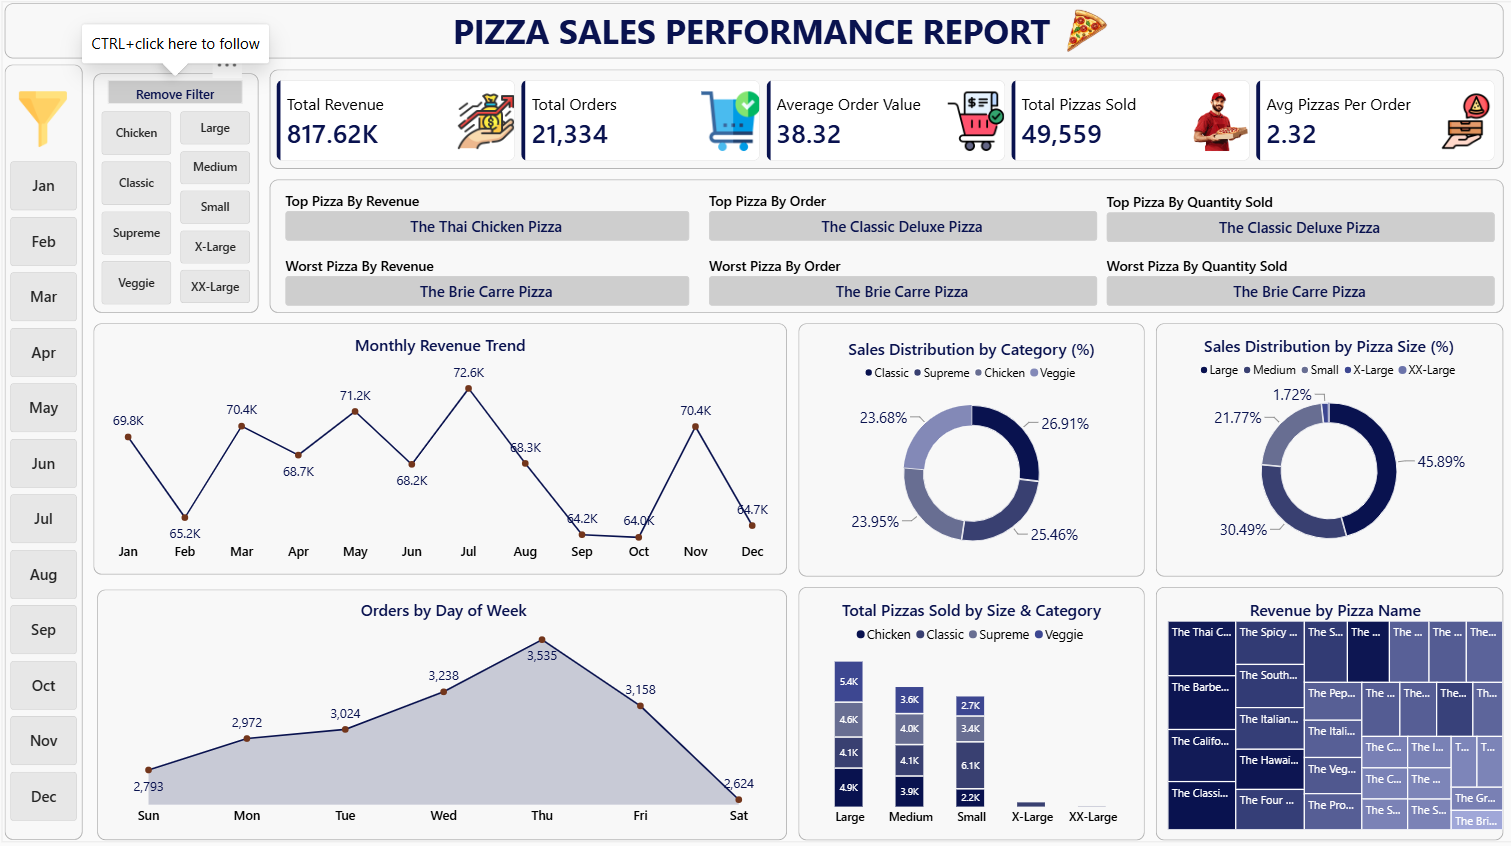

What the dashboard file says about the page in this screenshot:
{"tool":"powerbi","page":{"name":"DASHBOARD","canvas":[1920,1080],"ordinal":0},"visuals":[{"type":"shape","box":[12.9,10,1892.9,71.4],"z":0,"group":"g1"},{"type":"group","id":"g1","title":"Group 1","box":[12.9,10,1892.9,1058.6],"z":0},{"type":"advancedSlicerVisual","title":"Top Pizza By Revenue","fields":{"Values":["PIZZA SALES.pizza_name"]},"box":[368.6,247.6,510,62.9],"z":0,"group":"g2"},{"type":"shape","box":[13.2,88,100,980],"z":1000,"group":"g1"},{"type":"cardVisual","fields":{"Data":["PIZZA SALES.Total Revenue","PIZZA SALES.Total Orders","PIZZA SALES.Average Order Value","PIZZA SALES.Total Pizzas Sold","PIZZA SALES.Avg Pizzas Per Order"]},"box":[357.1,107.1,1537.1,102.9],"z":1000},{"type":"advancedSlicerVisual","title":"Worst Pizza By Revenue","fields":{"Values":["PIZZA SALES.pizza_name"]},"box":[368.6,329,510,62.9],"z":1000,"group":"g2"},{"type":"shape","box":[125.2,98,210,304],"z":2000,"group":"g1"},{"type":"lineChart","title":"Monthly Revenue Trend","fields":{"Category":["PIZZA SALES.Month Name"],"Y":["PIZZA SALES.Total Revenue"]},"box":[125.6,413.3,876.7,322.2],"z":2000},{"type":"shape","box":[124.2,413.3,876.7,318.9],"z":3000,"group":"g1"},{"type":"lineChart","title":"Orders by Day of Week","fields":{"Category":["PIZZA SALES.Day Name"],"Y":["PIZZA SALES.Total Orders"]},"box":[130,748,876,320],"z":3000},{"type":"donutChart","title":"Sales Distribution by Category (%)","fields":{"Category":["PIZZA SALES.pizza_category"],"Y":["PIZZA SALES.Total Revenue"]},"box":[1014.3,418.6,438.6,314.3],"z":4000},{"type":"shape","box":[129.2,750,872,318],"z":4000,"group":"g1"},{"type":"shape","box":[1014.3,414.3,438.6,321.4],"z":5000,"group":"g1"},{"type":"donutChart","title":"Sales Distribution by Pizza Size (%)","fields":{"Category":["PIZZA SALES.pizza_size"],"Y":["PIZZA SALES.Total Revenue"]},"box":[1465.7,414.3,438.6,314.3],"z":5000},{"type":"shape","box":[1465.8,414.3,440,321.4],"z":6000,"group":"g1"},{"type":"columnChart","title":"Total Pizzas Sold by Size & Category","fields":{"Category":["PIZZA SALES.pizza_size"],"Series":["PIZZA SALES.pizza_category"],"Y":["PIZZA SALES.Total Pizzas Sold"]},"box":[1014.3,747.1,438.6,321.4],"z":6000},{"type":"shape","box":[347.2,92.9,1558.6,127.1],"z":7000,"group":"g1"},{"type":"treemap","title":"Revenue by Pizza Name","fields":{"Group":["PIZZA SALES.pizza_name"],"Values":["PIZZA SALES.Total Revenue"]},"box":[1465.7,747.1,454.3,321.4],"z":7000},{"type":"shape","box":[347.2,232.9,1558.6,170],"z":8000,"group":"g1"},{"type":"advancedSlicerVisual","title":"Top Pizza By Order","fields":{"Values":["PIZZA SALES.pizza_name"]},"box":[902.9,247.8,490,62.9],"z":8000},{"type":"advancedSlicerVisual","title":"Worst Pizza By Order","fields":{"Values":["PIZZA SALES.pizza_name"]},"box":[902.9,329.2,490,62.9],"z":9000},{"type":"shape","box":[1014.3,747.1,438.6,321.4],"z":9000,"group":"g1"},{"type":"group","id":"g2","title":"Group 3","box":[368.6,247.6,510,144.3],"z":10000},{"type":"shape","box":[1465.8,747.1,440,321.4],"z":10000,"group":"g1"},{"type":"advancedSlicerVisual","title":"Top Pizza By Quantity Sold","fields":{"Values":["PIZZA SALES.pizza_name"]},"box":[1404.3,249,490,62.9],"z":11000},{"type":"advancedSlicerVisual","title":"Worst Pizza By Quantity Sold","fields":{"Values":["PIZZA SALES.pizza_name"]},"box":[1404.3,330.4,490,62.9],"z":12000},{"type":"advancedSlicerVisual","fields":{"Values":["PIZZA SALES.Month Name"]},"box":[21,210,84,842],"z":13000},{"type":"advancedSlicerVisual","fields":{"Values":["PIZZA SALES.pizza_category"]},"box":[136.5,147.5,88.5,246],"z":14000},{"type":"advancedSlicerVisual","fields":{"Values":["PIZZA SALES.pizza_size"]},"box":[235.5,147.5,88.5,246],"z":15000},{"type":"actionButton","box":[144.3,107.1,170,30],"z":15001},{"type":"image","box":[17.1,121.4,88.6,70],"z":15002},{"type":"textbox","box":[10,8,1892.9,71.4],"z":15003},{"type":"image","box":[1327.1,14.3,101.4,62.9],"z":15004},{"type":"textbox","box":[105.7,21.4,184.3,47.1],"z":15006}]}

Visuals, with their boxes in screenshot pixels (x1, y1, x2, y2), scaled from the page's 1920x1080 canvas onto the 1511x846 screenshot:
shape: <region>10, 8, 1500, 64</region>
"Group 1" group: <region>10, 8, 1500, 837</region>
"Top Pizza By Revenue" advancedSlicerVisual: <region>290, 194, 691, 243</region>
shape: <region>10, 69, 89, 837</region>
cardVisual - PIZZA SALES.Total Revenue x PIZZA SALES.Total Orders: <region>281, 84, 1491, 164</region>
"Worst Pizza By Revenue" advancedSlicerVisual: <region>290, 258, 691, 307</region>
shape: <region>99, 77, 264, 315</region>
"Monthly Revenue Trend" lineChart: <region>99, 324, 789, 576</region>
shape: <region>98, 324, 788, 574</region>
"Orders by Day of Week" lineChart: <region>102, 586, 792, 837</region>
"Sales Distribution by Category (%)" donutChart: <region>798, 328, 1143, 574</region>
shape: <region>102, 588, 788, 837</region>
shape: <region>798, 325, 1143, 576</region>
"Sales Distribution by Pizza Size (%)" donutChart: <region>1153, 325, 1499, 571</region>
shape: <region>1154, 325, 1500, 576</region>
"Total Pizzas Sold by Size & Category" columnChart: <region>798, 585, 1143, 837</region>
shape: <region>273, 73, 1500, 172</region>
"Revenue by Pizza Name" treemap: <region>1153, 585, 1510, 837</region>
shape: <region>273, 182, 1500, 316</region>
"Top Pizza By Order" advancedSlicerVisual: <region>711, 194, 1096, 243</region>
"Worst Pizza By Order" advancedSlicerVisual: <region>711, 258, 1096, 307</region>
shape: <region>798, 585, 1143, 837</region>
"Group 3" group: <region>290, 194, 691, 307</region>
shape: <region>1154, 585, 1500, 837</region>
"Top Pizza By Quantity Sold" advancedSlicerVisual: <region>1105, 195, 1491, 244</region>
"Worst Pizza By Quantity Sold" advancedSlicerVisual: <region>1105, 259, 1491, 308</region>
advancedSlicerVisual - PIZZA SALES.Month Name: <region>17, 164, 83, 824</region>
advancedSlicerVisual - PIZZA SALES.pizza_category: <region>107, 116, 177, 308</region>
advancedSlicerVisual - PIZZA SALES.pizza_size: <region>185, 116, 255, 308</region>
actionButton: <region>114, 84, 247, 107</region>
image: <region>13, 95, 83, 150</region>
textbox: <region>8, 6, 1498, 62</region>
image: <region>1044, 11, 1124, 60</region>
textbox: <region>83, 17, 228, 54</region>
